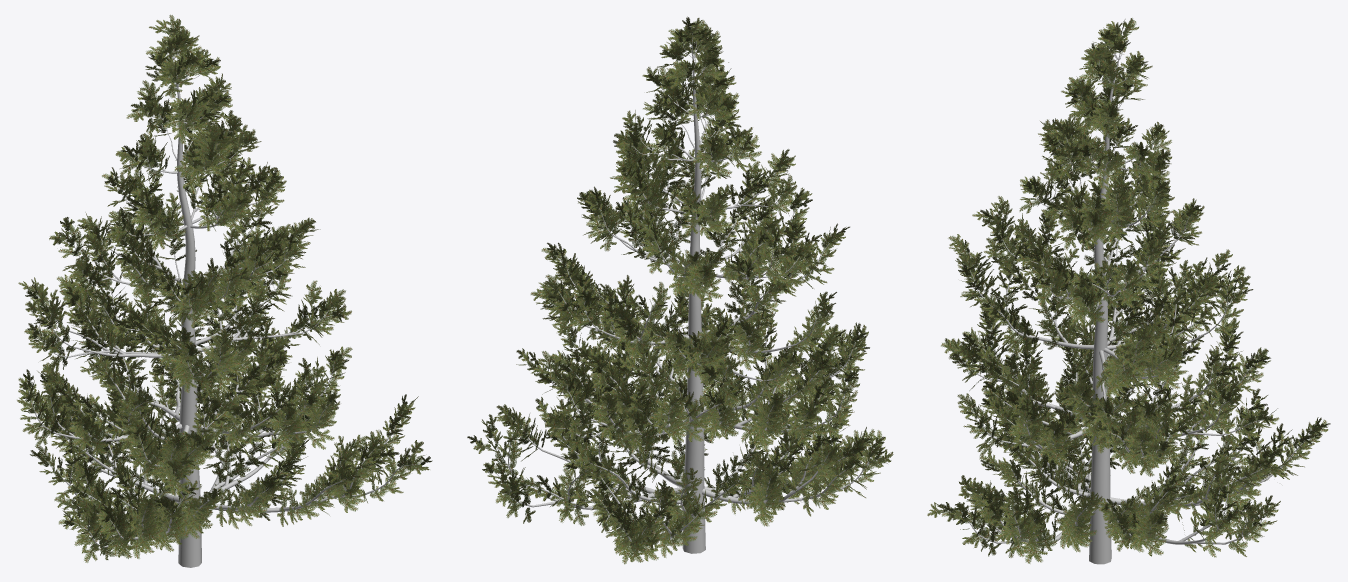
The model's file is Tree Big.fbx.
3 views of the same model, side by side, from view 1: azimuth 30°, elevation 25°; view 2: azimuth 150°, elevation 25°; view 3: azimuth 270°, elevation 25° (orthographic).
Visible parts, largest first — view 1: leaves; view 2: leaves; view 3: leaves.
Part boxes in pixels (x1=…): leaves: x1=17, y1=14, x2=432, y2=567; leaves: x1=467, y1=16, x2=893, y2=564; leaves: x1=927, y1=18, x2=1330, y2=564.
Size of the model in its own units: 3.41 by 4.94 by 3.4.
